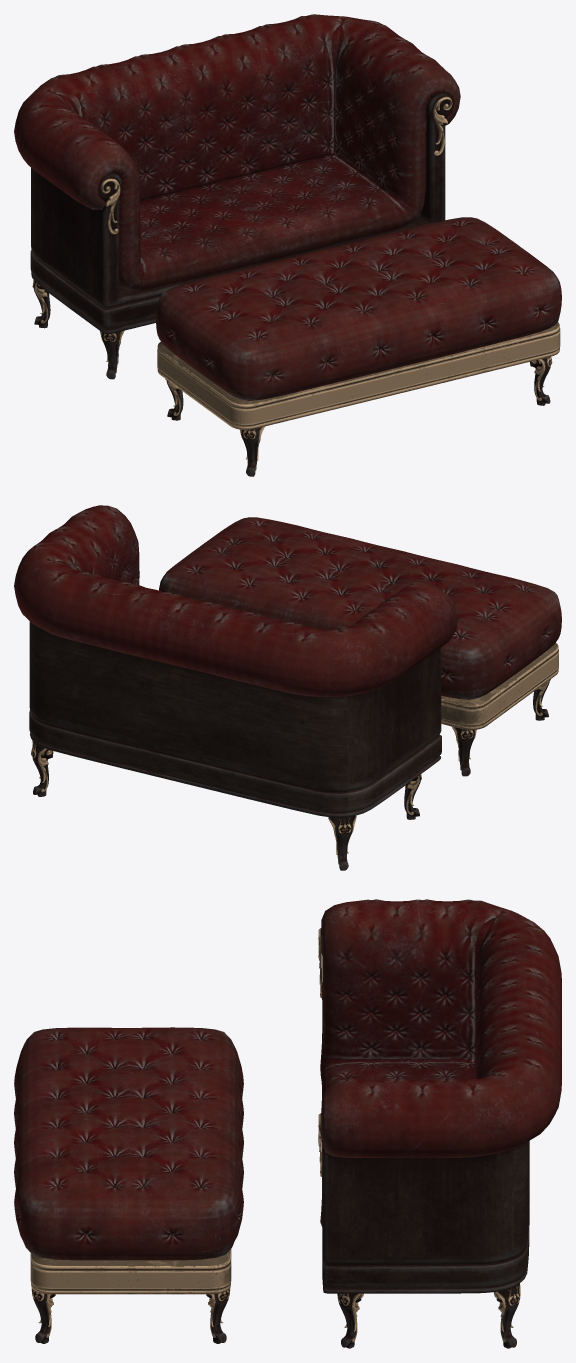
Rendered from sofa4.glb.
3 views of the same model, one above another, from view 1: azimuth 30°, elevation 25°; view 2: azimuth 150°, elevation 25°; view 3: azimuth 270°, elevation 25° (orthographic). The views are drawn at different scales.
Visible parts, largest first — view 1: S-2, P-2, S-2-A, P-2-A; view 2: S-2-A, S-2, P-2, P-2-A; view 3: S-2, P-2, S-2-A, P-2-A.
Boxes of the visible parts, x1=… form: S-2: x1=14, y1=14, x2=460, y2=291; P-2: x1=156, y1=217, x2=561, y2=400; S-2-A: x1=30, y1=92, x2=453, y2=379; P-2-A: x1=157, y1=322, x2=560, y2=476; S-2-A: x1=29, y1=621, x2=441, y2=870; S-2: x1=14, y1=505, x2=457, y2=697; P-2: x1=159, y1=517, x2=561, y2=699; P-2-A: x1=441, y1=643, x2=558, y2=776; S-2: x1=320, y1=899, x2=561, y2=1228; P-2: x1=14, y1=1027, x2=243, y2=1260; S-2-A: x1=318, y1=926, x2=529, y2=1348; P-2-A: x1=30, y1=1249, x2=231, y2=1343.
Size of the model in its own units: 1.41 by 0.8338 by 1.54.
4 materials, 4 textured.
